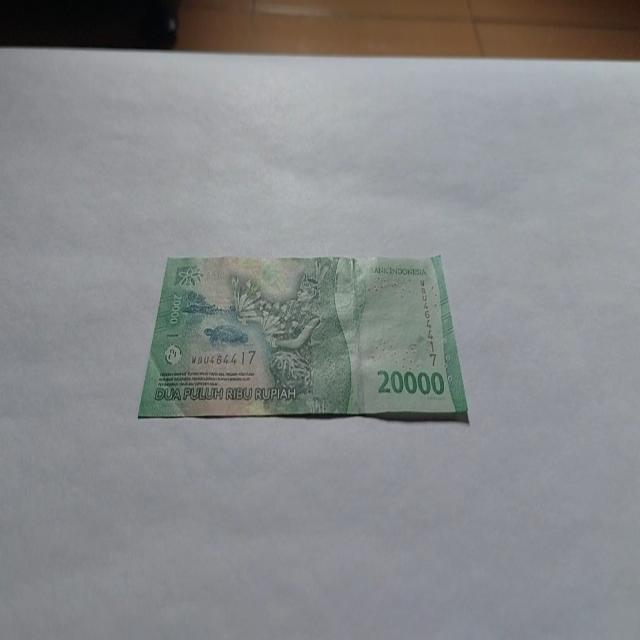dua puluh ribu rupiah: (137, 250, 470, 424)
